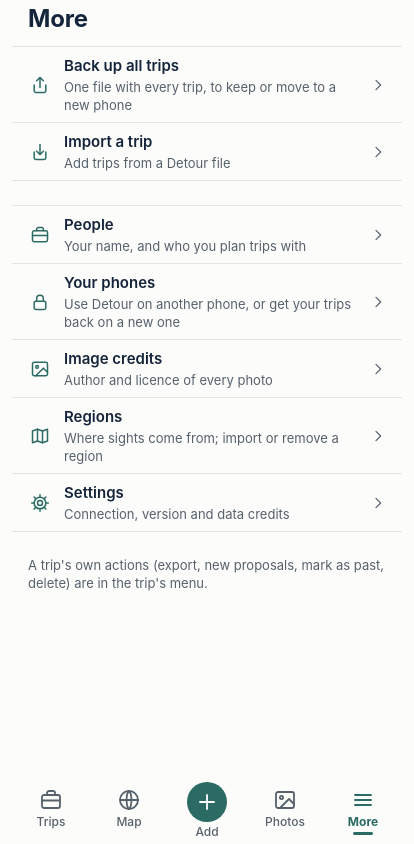
Scenario: Regions is reachable from More
Step 1. Click the button with test id "more-regions" → (207, 436), box [12, 398, 402, 474]
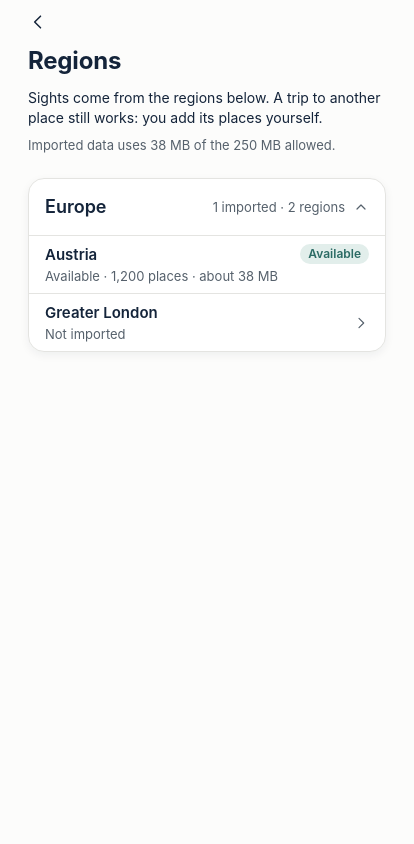
Result: the heading "Regions" is shown at [28, 46, 121, 75]
